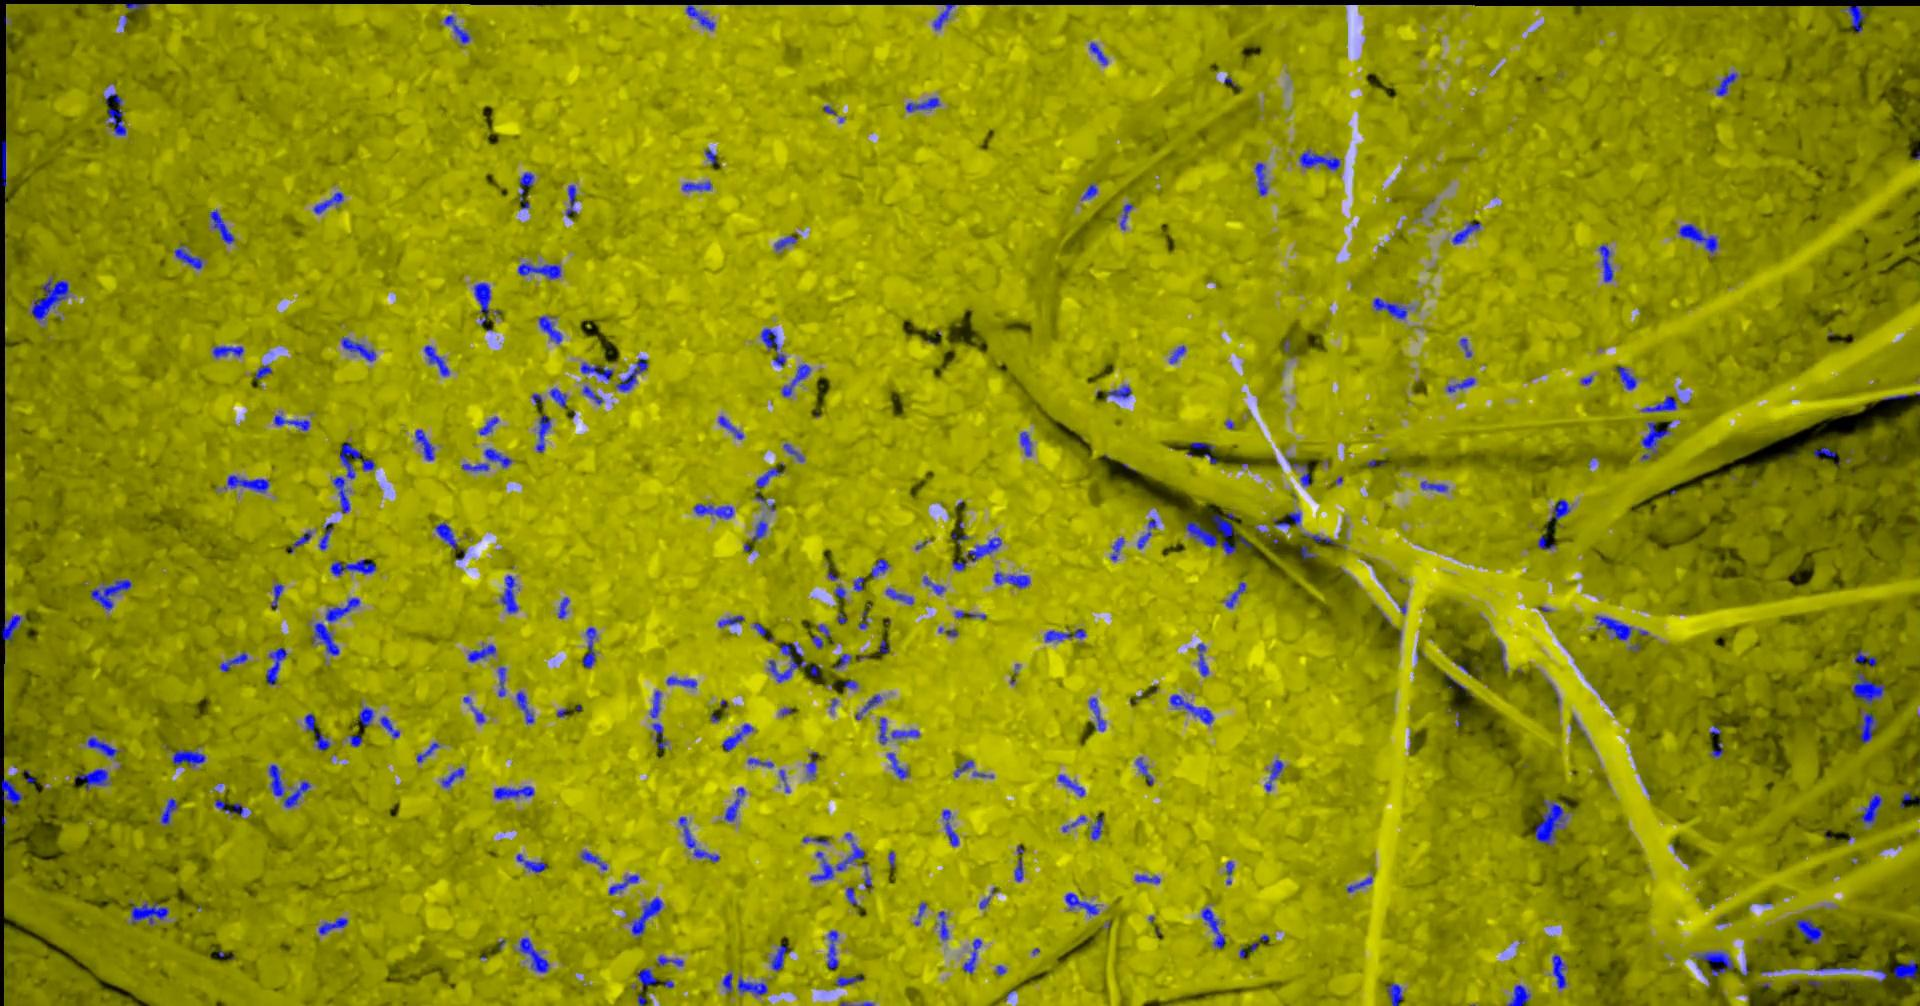ant: (809, 832, 863, 882), (678, 815, 719, 861), (268, 763, 310, 807), (951, 537, 1001, 570), (30, 278, 69, 320), (768, 641, 806, 682), (1534, 799, 1564, 843), (1170, 694, 1213, 724), (339, 441, 375, 478), (630, 897, 662, 937), (90, 579, 131, 610), (615, 357, 648, 391), (1677, 224, 1717, 251), (461, 448, 510, 470), (1851, 673, 1884, 705), (518, 937, 549, 972), (1211, 512, 1236, 554), (1641, 420, 1671, 453), (1201, 907, 1225, 948), (759, 328, 785, 366), (1694, 951, 1733, 976), (781, 365, 810, 396), (1594, 615, 1632, 639), (312, 622, 339, 655), (130, 901, 168, 923), (721, 723, 752, 751), (1185, 521, 1217, 547), (325, 597, 359, 621), (1299, 150, 1340, 170), (423, 345, 450, 376), (223, 474, 269, 492), (329, 558, 375, 575), (0, 614, 25, 645), (105, 93, 124, 135), (210, 210, 234, 243), (342, 337, 375, 361), (1064, 892, 1098, 915), (684, 4, 714, 30), (517, 262, 560, 279), (72, 768, 108, 790), (265, 647, 286, 683), (636, 968, 657, 1005), (472, 282, 490, 324), (1371, 297, 1407, 318), (724, 788, 745, 821), (174, 244, 202, 269), (1857, 709, 1877, 743), (1858, 793, 1881, 823), (855, 694, 881, 719), (963, 937, 982, 973), (444, 15, 469, 43), (312, 192, 343, 213), (331, 475, 349, 512), (1288, 460, 1313, 485), (1796, 918, 1822, 942), (538, 315, 561, 343), (1189, 441, 1217, 464), (1057, 774, 1084, 796), (1451, 222, 1481, 244), (500, 575, 517, 614), (88, 735, 118, 756), (886, 752, 909, 779), (1263, 760, 1283, 791), (693, 503, 733, 518), (608, 874, 637, 894), (1641, 395, 1676, 412), (273, 414, 309, 431), (993, 572, 1029, 588), (535, 414, 550, 452), (717, 417, 743, 439), (414, 429, 433, 460), (516, 854, 546, 873), (932, 3, 954, 29), (436, 522, 457, 549), (0, 777, 22, 804), (1845, 4, 1865, 32), (582, 627, 596, 668), (1044, 627, 1084, 641), (516, 691, 533, 723), (518, 171, 533, 208), (942, 809, 957, 846), (1137, 518, 1156, 547), (218, 652, 248, 671), (494, 785, 533, 799), (580, 362, 613, 379), (1088, 697, 1105, 730), (171, 749, 204, 766), (770, 944, 790, 970), (737, 977, 767, 995), (1597, 244, 1611, 282), (580, 850, 607, 869), (467, 644, 495, 662), (1135, 757, 1153, 785), (290, 530, 311, 553), (1615, 365, 1636, 389), (415, 742, 439, 762), (1506, 984, 1530, 1005), (756, 467, 781, 486), (1225, 582, 1244, 607), (317, 917, 347, 934), (1552, 954, 1566, 988), (1716, 72, 1736, 95), (441, 767, 463, 788), (905, 97, 938, 111), (885, 588, 913, 605), (215, 799, 243, 815), (160, 798, 177, 824), (827, 930, 838, 968), (1446, 377, 1474, 392), (1272, 511, 1300, 526), (1255, 163, 1267, 196), (1893, 962, 1919, 978), (1549, 499, 1570, 520), (378, 716, 399, 737), (582, 385, 603, 404), (922, 575, 943, 594), (1854, 648, 1876, 667), (317, 522, 333, 549), (651, 723, 667, 749), (1346, 876, 1371, 892), (1090, 42, 1107, 64), (565, 184, 577, 217), (1385, 982, 1402, 1005), (1062, 815, 1086, 831), (549, 387, 566, 408), (477, 417, 498, 434), (1090, 814, 1103, 840), (212, 345, 243, 357), (665, 676, 696, 687), (1105, 385, 1131, 398), (783, 443, 803, 461), (870, 558, 888, 577), (717, 615, 744, 627), (356, 706, 373, 725), (750, 520, 767, 540), (1197, 643, 1208, 676), (952, 760, 973, 776), (775, 235, 796, 250), (0, 140, 5, 203), (1119, 203, 1131, 229), (1018, 431, 1031, 456), (270, 583, 283, 608), (1110, 537, 1124, 560), (681, 180, 711, 191), (649, 690, 660, 716), (657, 955, 683, 967), (938, 909, 949, 939), (1299, 544, 1316, 561), (1170, 344, 1185, 363), (1420, 481, 1448, 492), (877, 716, 888, 744), (836, 976, 863, 986), (954, 610, 985, 619), (1303, 533, 1333, 542), (497, 666, 505, 696), (314, 732, 329, 749), (747, 757, 773, 767), (1537, 535, 1556, 549), (914, 902, 926, 925), (1081, 183, 1096, 199), (834, 653, 851, 668), (1898, 791, 1915, 807), (253, 365, 270, 379), (891, 729, 919, 738), (557, 597, 569, 619), (806, 752, 817, 776), (470, 705, 484, 721), (1134, 874, 1159, 883), (844, 887, 857, 904), (1813, 447, 1835, 457), (1459, 337, 1470, 356), (703, 149, 716, 165), (721, 972, 731, 992), (303, 713, 315, 730), (1015, 859, 1023, 882), (1225, 860, 1233, 884), (752, 622, 766, 635), (124, 3, 145, 10), (349, 734, 362, 746), (853, 577, 863, 591)
